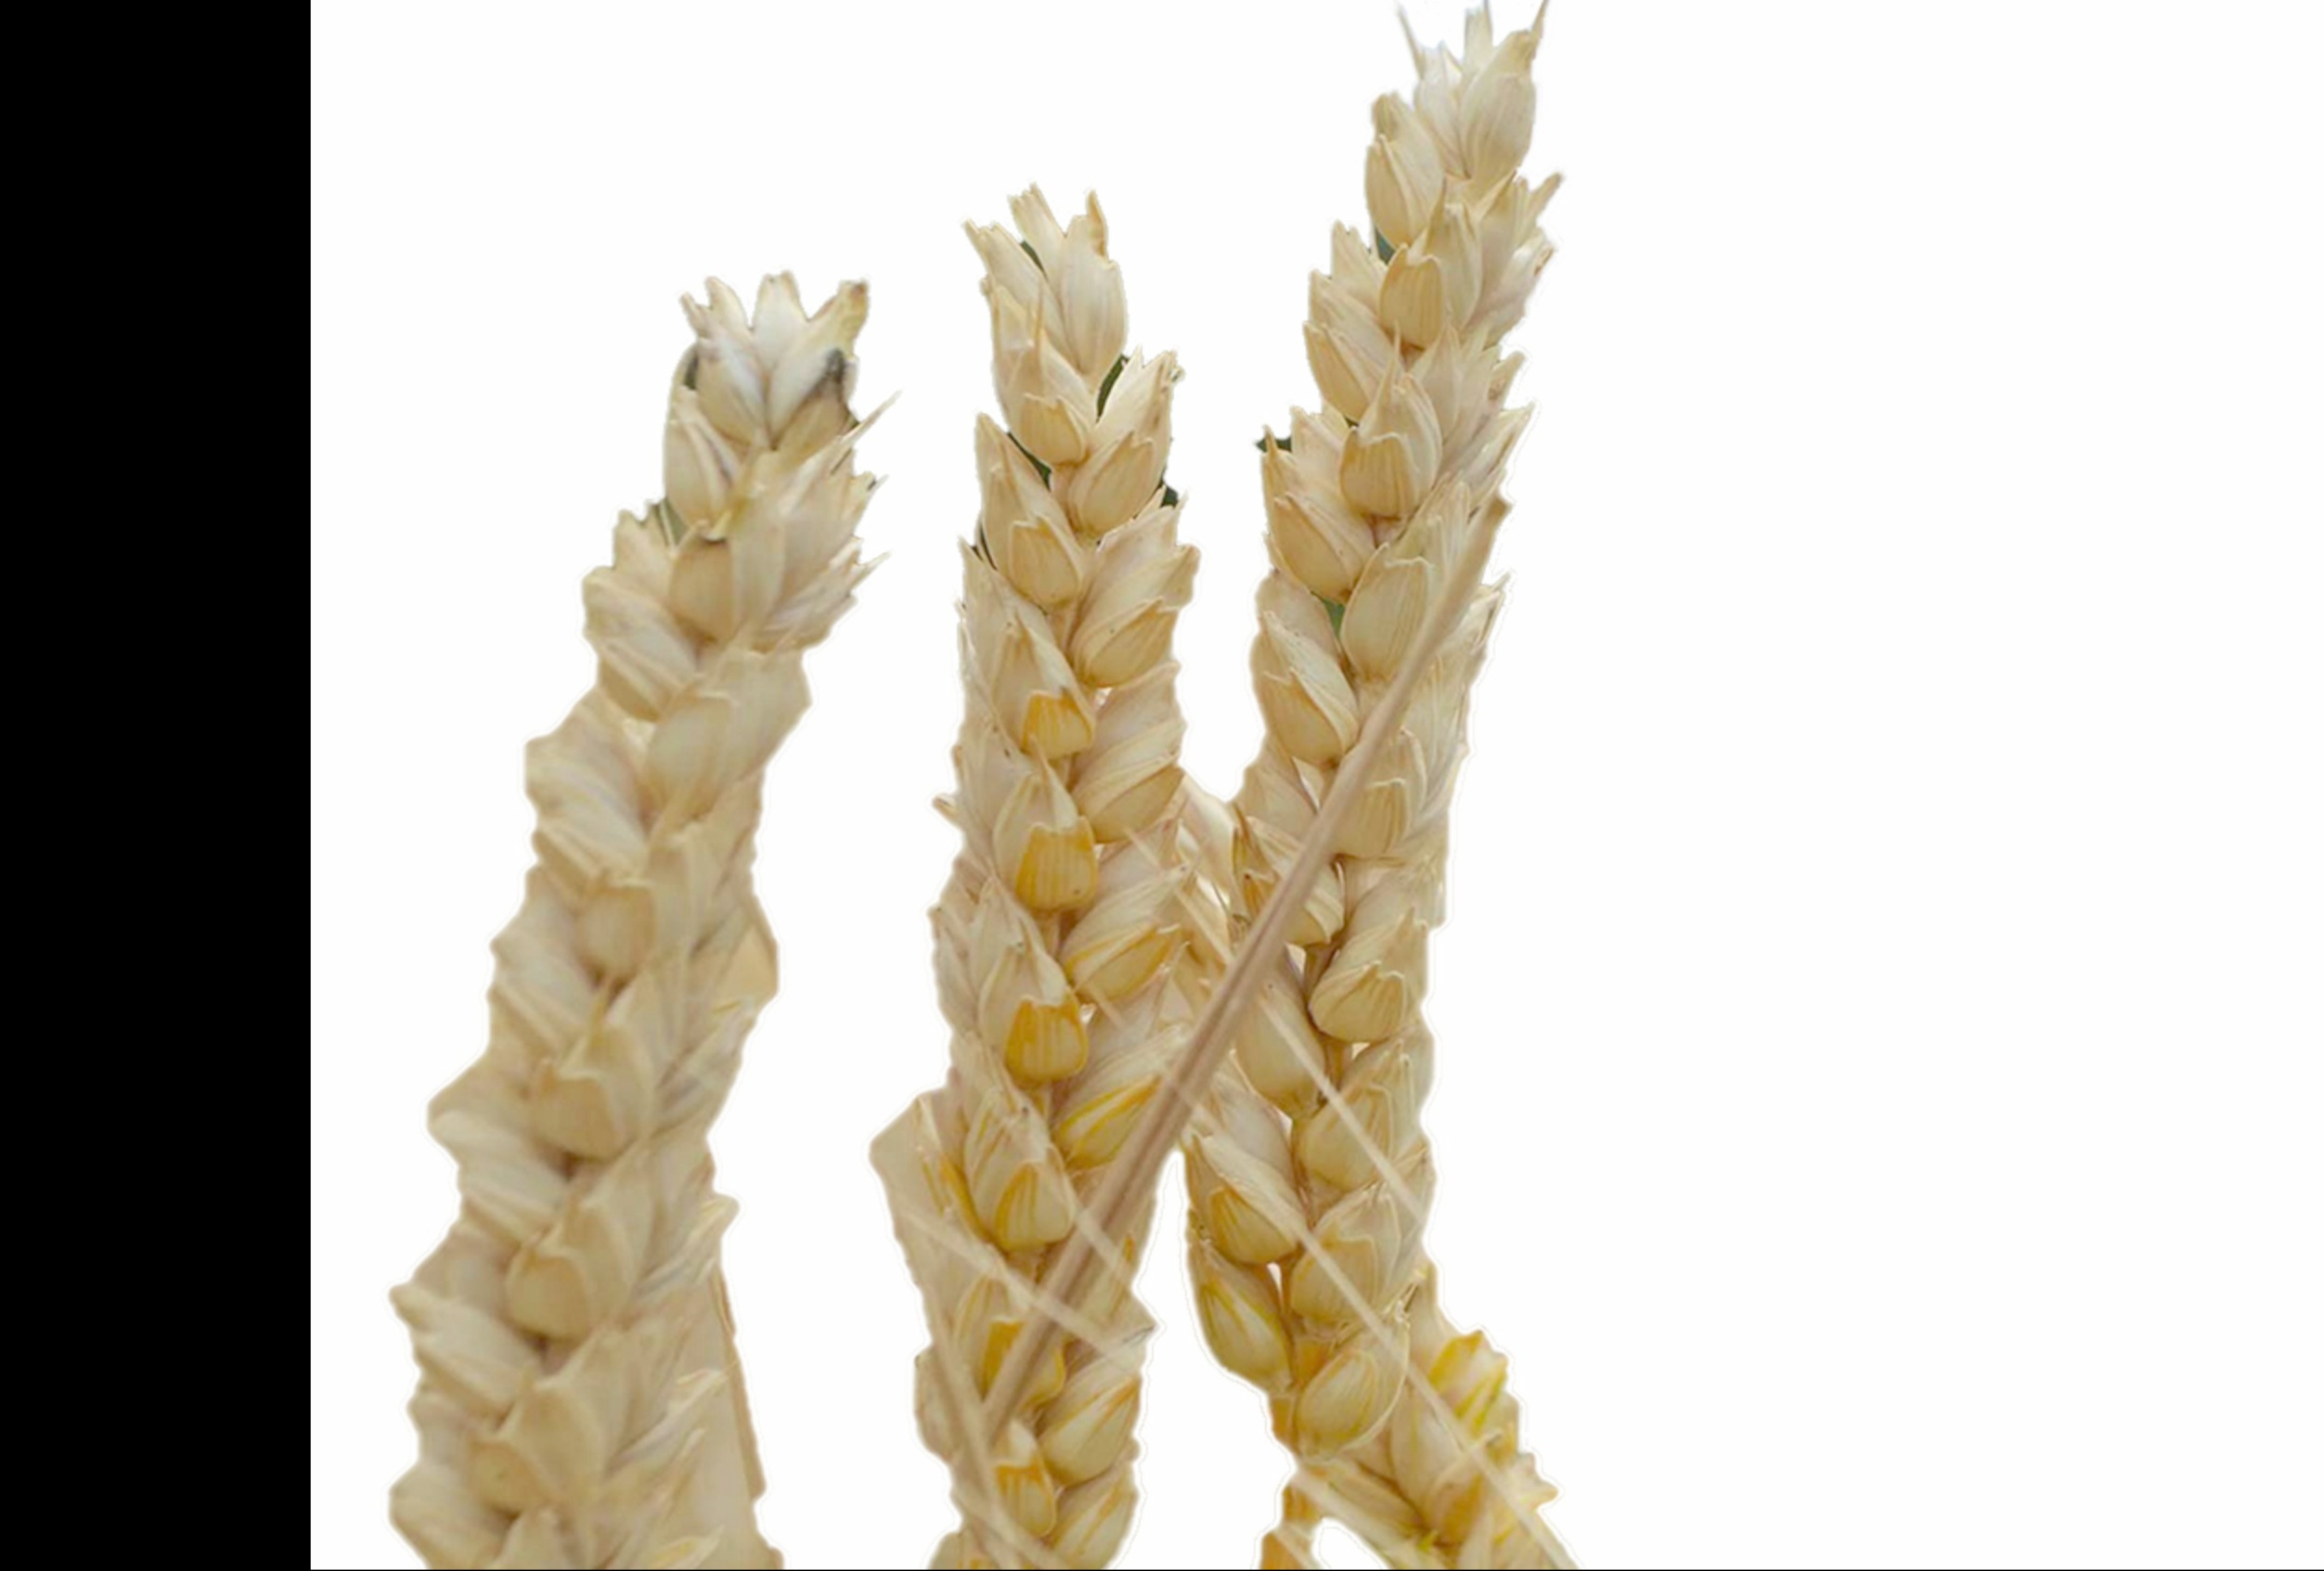wheat: (367, 261, 866, 1569), (1215, 11, 1586, 1552), (889, 132, 1212, 1564)
